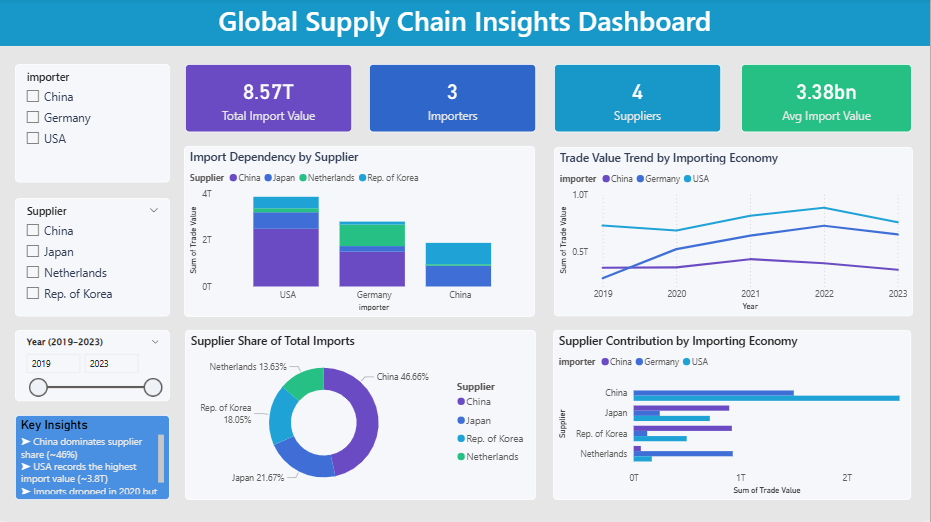

What the dashboard file says about the page in this screenshot:
{"tool":"powerbi","page":{"name":"Page 1","canvas":[1280,720],"ordinal":0},"visuals":[{"type":"clusteredBarChart","title":"Supplier Contribution by Importing Economy","fields":{"Category":["Sheet1.Supplier"],"Y":["Sum(Sheet1.Trade Value)"],"Series":["Sheet1.importer"]},"box":[761.1,456.9,492.7,234],"z":0},{"type":"lineChart","title":"Trade Value Trend by Importing Economy","fields":{"Category":["Sheet1.Year"],"Y":["Sum(Sheet1.Trade Value)"],"Series":["Sheet1.importer"]},"box":[762.5,205.1,494.1,232.6],"z":1000},{"type":"donutChart","title":"Supplier Share of Total Imports","fields":{"Category":["Sheet1.Supplier"],"Y":["Sum(Sheet1.Trade Value)"]},"box":[254.6,456.9,483.1,234],"z":2000},{"type":"lineStackedColumnComboChart","title":"Import Dependency by Supplier","fields":{"Category":["Sheet1.importer"],"Y":["Sum(Sheet1.Trade Value)"],"Series":["Sheet1.Supplier"]},"box":[253.2,203.7,483.1,235.4],"z":3000},{"type":"slicer","fields":{"Values":["Sheet1.importer"]},"box":[21.2,91.2,212.5,162.5],"z":4000},{"type":"slicer","fields":{"Values":["Sheet1.Supplier"]},"box":[21.2,275,212.5,162.5],"z":5000},{"type":"slicer","fields":{"Values":["Sheet1.Year"]},"box":[20.6,456.9,213.3,97.7],"z":6000},{"type":"card","fields":{"Values":["Sum(Sheet1.Trade Value)"]},"box":[254.6,90.8,229.8,93.6],"z":7000},{"type":"card","fields":{"Values":["Sheet1.Avg Import Value"]},"box":[1019.9,90.8,235.4,93.6],"z":8000},{"type":"card","fields":{"Values":["Sheet1.Suppliers"]},"box":[762.5,90.8,229.8,93.6],"z":9000},{"type":"card","fields":{"Values":["Sheet1.Importers"]},"box":[507.9,90.8,229.8,93.6],"z":10000},{"type":"textbox","box":[0,0,1280,66.1],"z":11000},{"type":"textbox","title":"Key Insights","box":[20.6,573.9,213.3,117],"z":12000}]}

Visuals, with their boxes in screenshot pixels (x1, y1, x2, y2), scaled from the page's 1280x720 canvas onto the 931x522 screenshot:
"Supplier Contribution by Importing Economy" clusteredBarChart: pyautogui.locateOnScreen(554, 331, 912, 501)
"Trade Value Trend by Importing Economy" lineChart: pyautogui.locateOnScreen(555, 149, 914, 317)
"Supplier Share of Total Imports" donutChart: pyautogui.locateOnScreen(185, 331, 537, 501)
"Import Dependency by Supplier" lineStackedColumnComboChart: pyautogui.locateOnScreen(184, 148, 536, 318)
slicer - Sheet1.importer: pyautogui.locateOnScreen(15, 66, 170, 184)
slicer - Sheet1.Supplier: pyautogui.locateOnScreen(15, 199, 170, 317)
slicer - Sheet1.Year: pyautogui.locateOnScreen(15, 331, 170, 402)
card - Sum(Sheet1.Trade Value): pyautogui.locateOnScreen(185, 66, 352, 134)
card - Sheet1.Avg Import Value: pyautogui.locateOnScreen(742, 66, 913, 134)
card - Sheet1.Suppliers: pyautogui.locateOnScreen(555, 66, 722, 134)
card - Sheet1.Importers: pyautogui.locateOnScreen(369, 66, 537, 134)
textbox: pyautogui.locateOnScreen(0, 0, 930, 48)
"Key Insights" textbox: pyautogui.locateOnScreen(15, 416, 170, 501)
